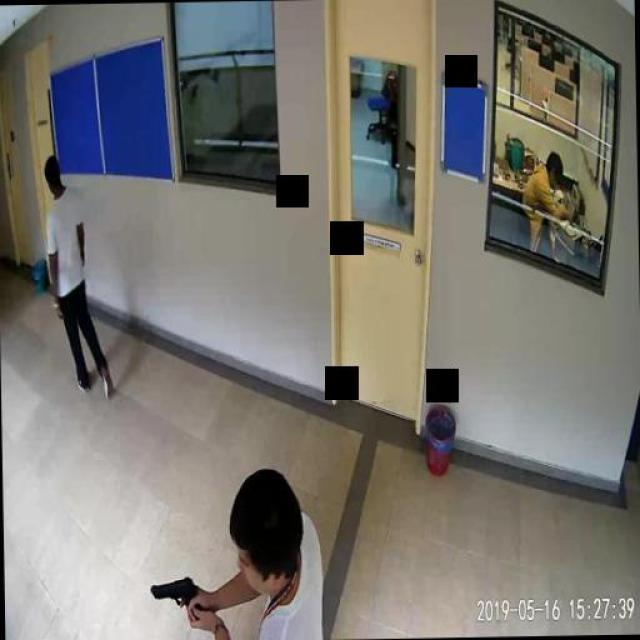gun: (149, 574, 201, 621)
